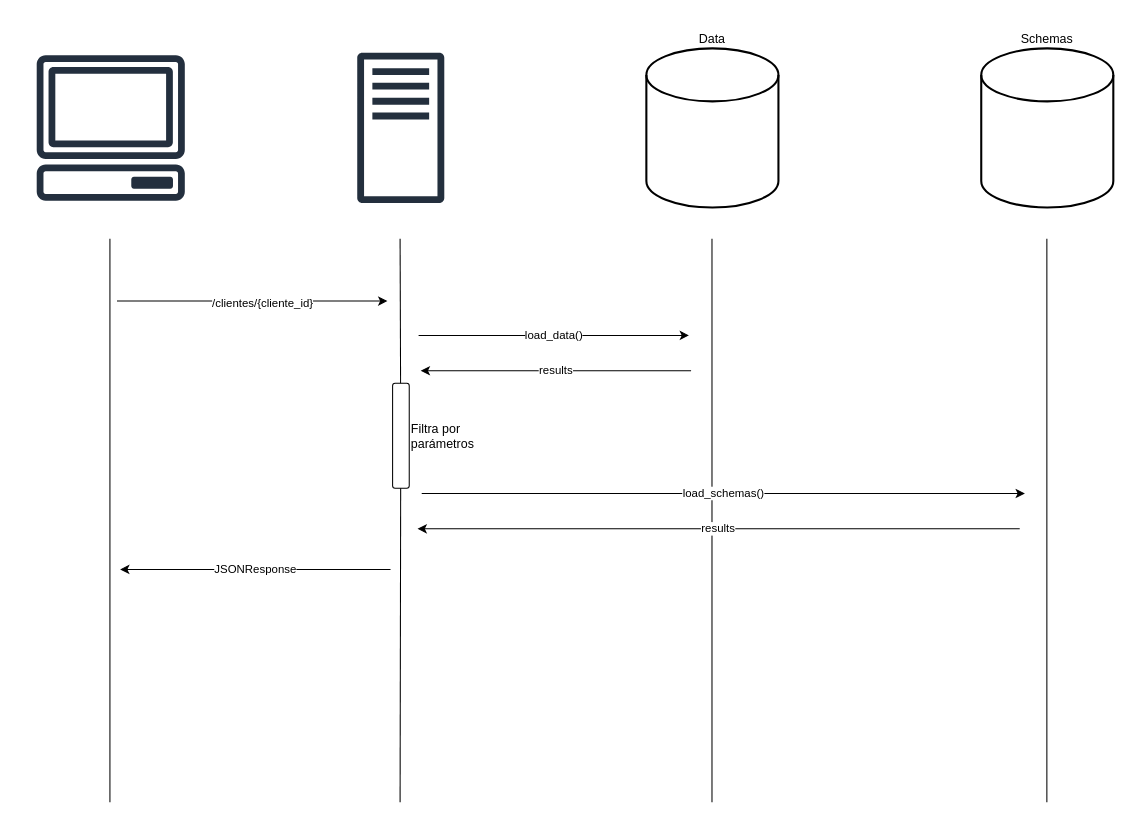
This 1133x822 diagram has some shape labels left out. The shapes that lost their labels are listed below. From the top down, each one's box as (x1, y1, x2, y2) in pixels, then its label:
(17, 34, 203, 220): Cliente
(357, 52, 444, 203): Server
